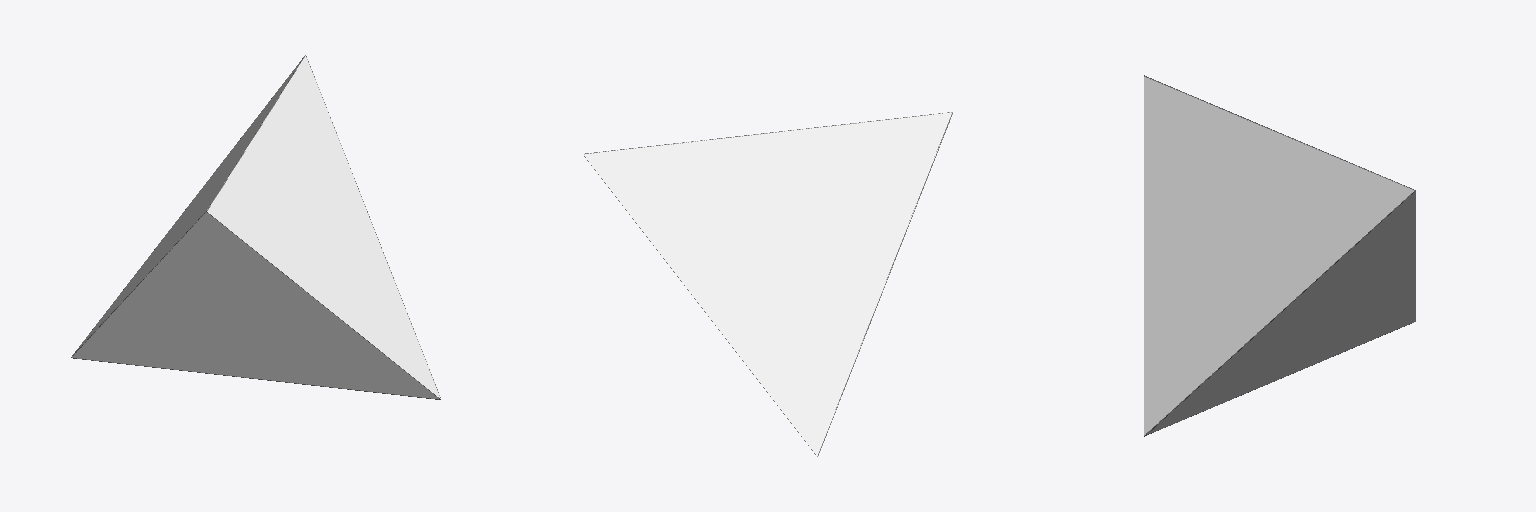
3 renders of one model, left to right at view 1: azimuth 30°, elevation 25°; view 2: azimuth 150°, elevation 25°; view 3: azimuth 270°, elevation 25°, orthographic.
Parts seen in each view (by area): view 1: tetrahederon; view 2: tetrahederon; view 3: tetrahederon.
Boxes of the visible parts, <box> form: tetrahederon: <box>71,55,440,399</box>; tetrahederon: <box>583,112,952,456</box>; tetrahederon: <box>1144,75,1415,436</box>.
Size of the model in its own units: 1 by 1 by 1.
1 materials, 1 textured.